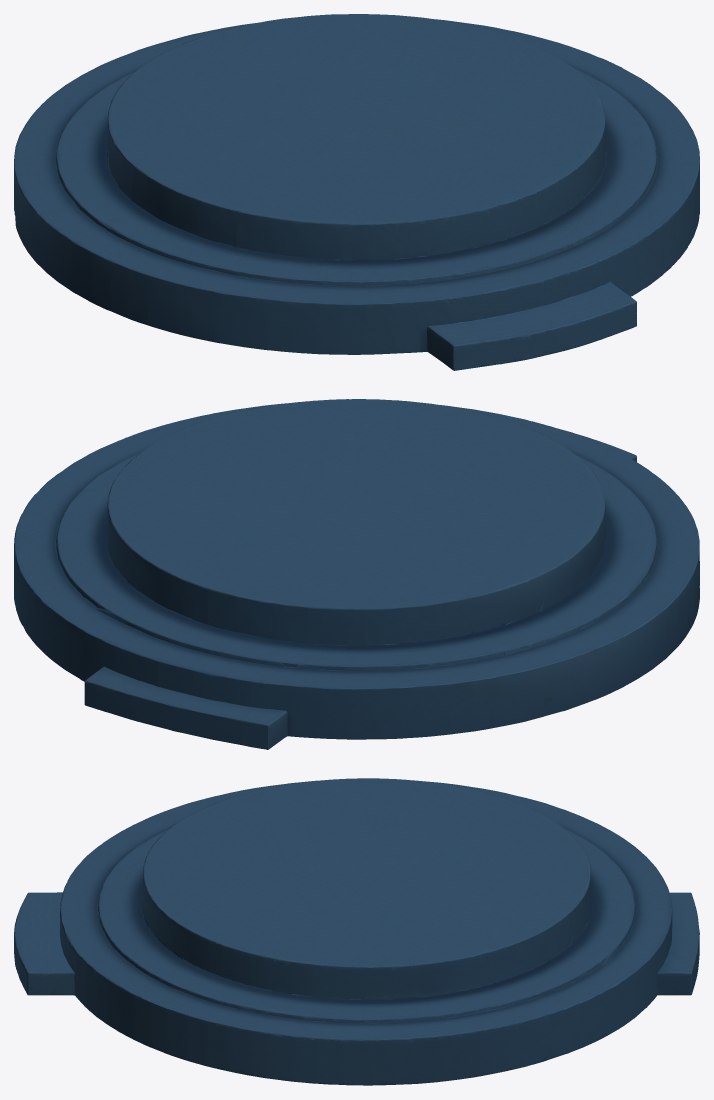
File: meshy_podium.glb
The picture shows the model from 3 angles, top to bottom: view 1: azimuth 30°, elevation 25°; view 2: azimuth 150°, elevation 25°; view 3: azimuth 270°, elevation 25°; orthographic projection. The views are drawn at different scales.
Bounding box in the file's own units: 1.71 × 0.2535 × 1.9.
1 material, 1 textured.
